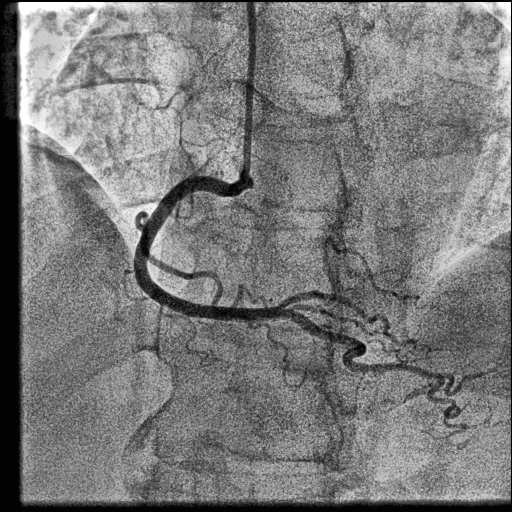pborca: (278, 291, 393, 336)
pda: (279, 309, 454, 383)
rca: (134, 175, 279, 322)
